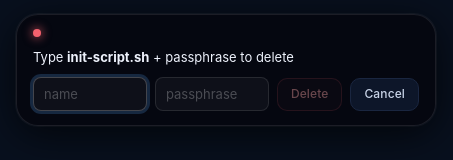
Scenario: DynamicIsland — deleteConfirm › enables Delete only when the typed name matches and a passphrase is present
The width and height of the screenshot is (453, 160).
Expected: the button "Delete" is disabled, [277,78,342,110]
Type "wrong" into the field named "Confirm name" at coordinates (90, 94), box [33,77,147,111]
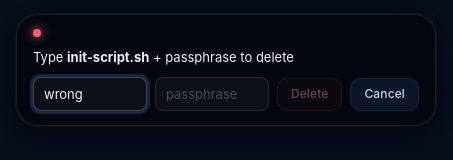
Expected: the button "Delete" is disabled, [277,78,342,110]
Replace the text in the field named "Confirm name" with "init-script.sh" at coordinates (90, 94), box [33,77,147,111]
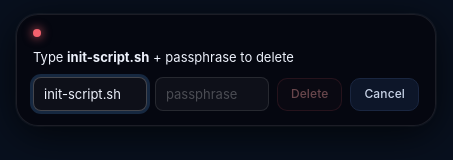
Expected: the button "Delete" is disabled, [277,78,342,110]
Type "pw" into the password field labelled "passphrase" at coordinates (212, 94), box [155,77,269,111]
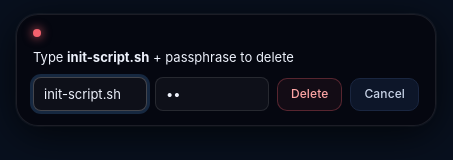
Result: the button "Delete" is enabled at [277,78,342,110]
